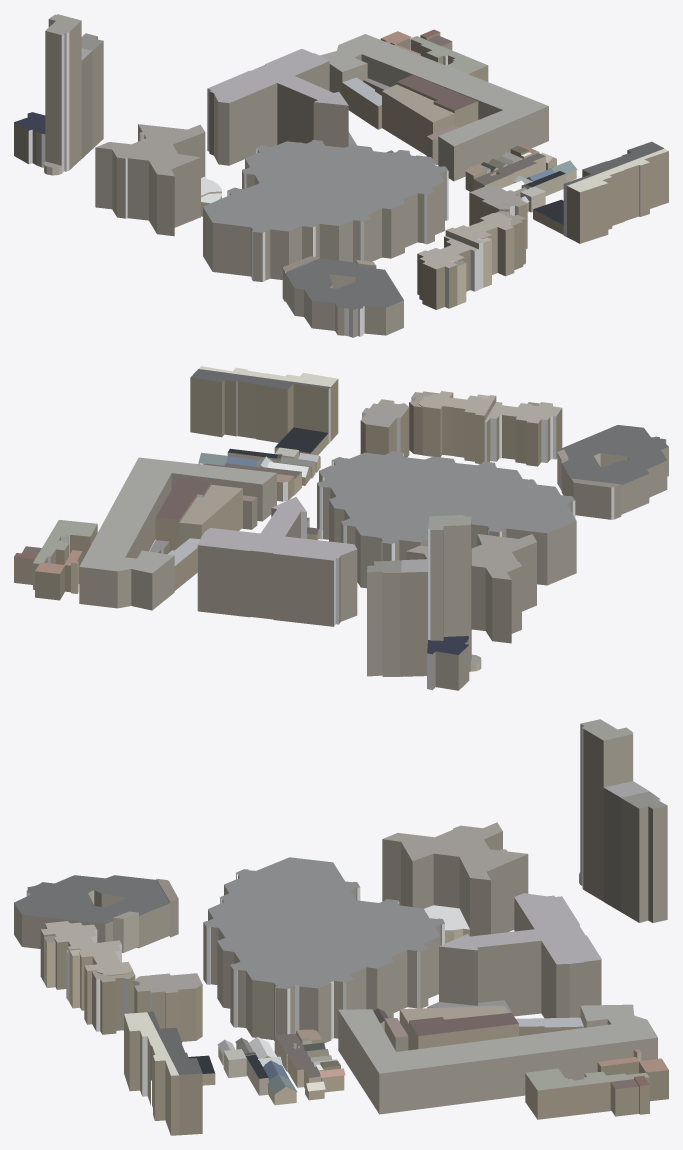
3 renders of one model, top to bottom at view 1: azimuth 30°, elevation 25°; view 2: azimuth 150°, elevation 25°; view 3: azimuth 270°, elevation 25°, orthographic. The views are drawn at different scales.
Visible parts, largest first — view 1: tuile; view 2: tuile; view 3: tuile.
Boxes of the visible parts, box(x1,y1,x2,y2) form: tuile: box(14, 14, 668, 337); tuile: box(14, 366, 668, 690); tuile: box(14, 719, 668, 1135).
Size of the model in its own units: 250 by 80.7 by 272.
